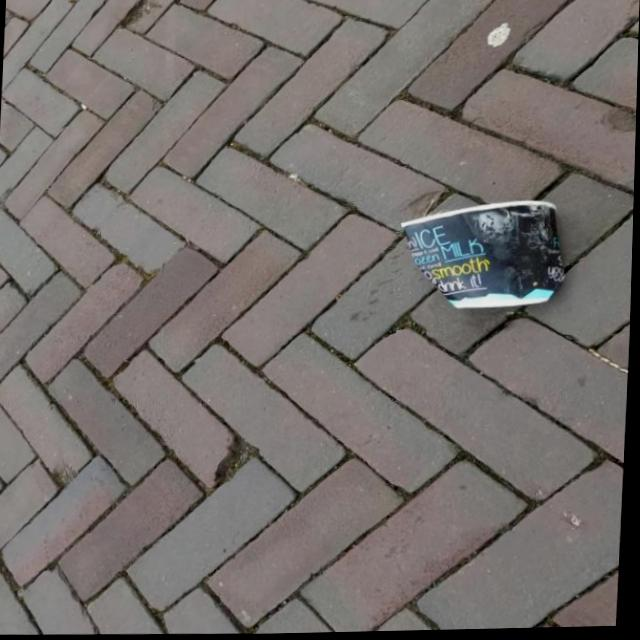Cup: (397, 196, 573, 312)
